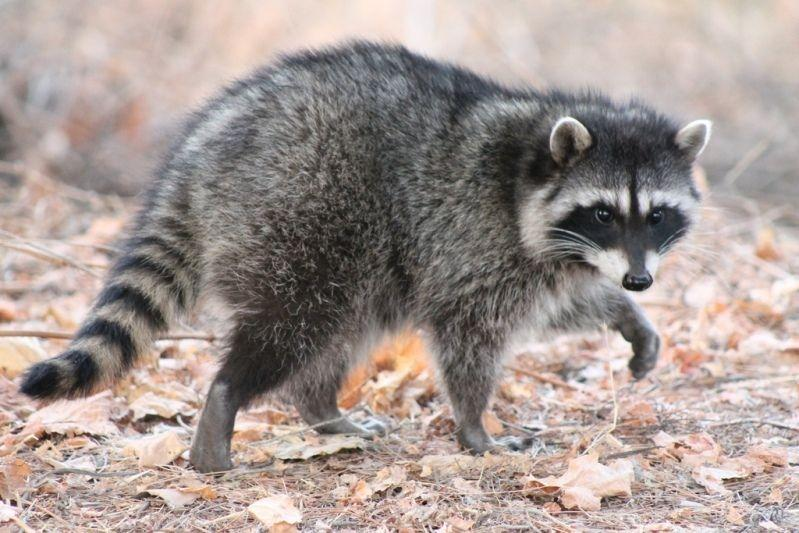raccoon: (20, 36, 711, 476)
